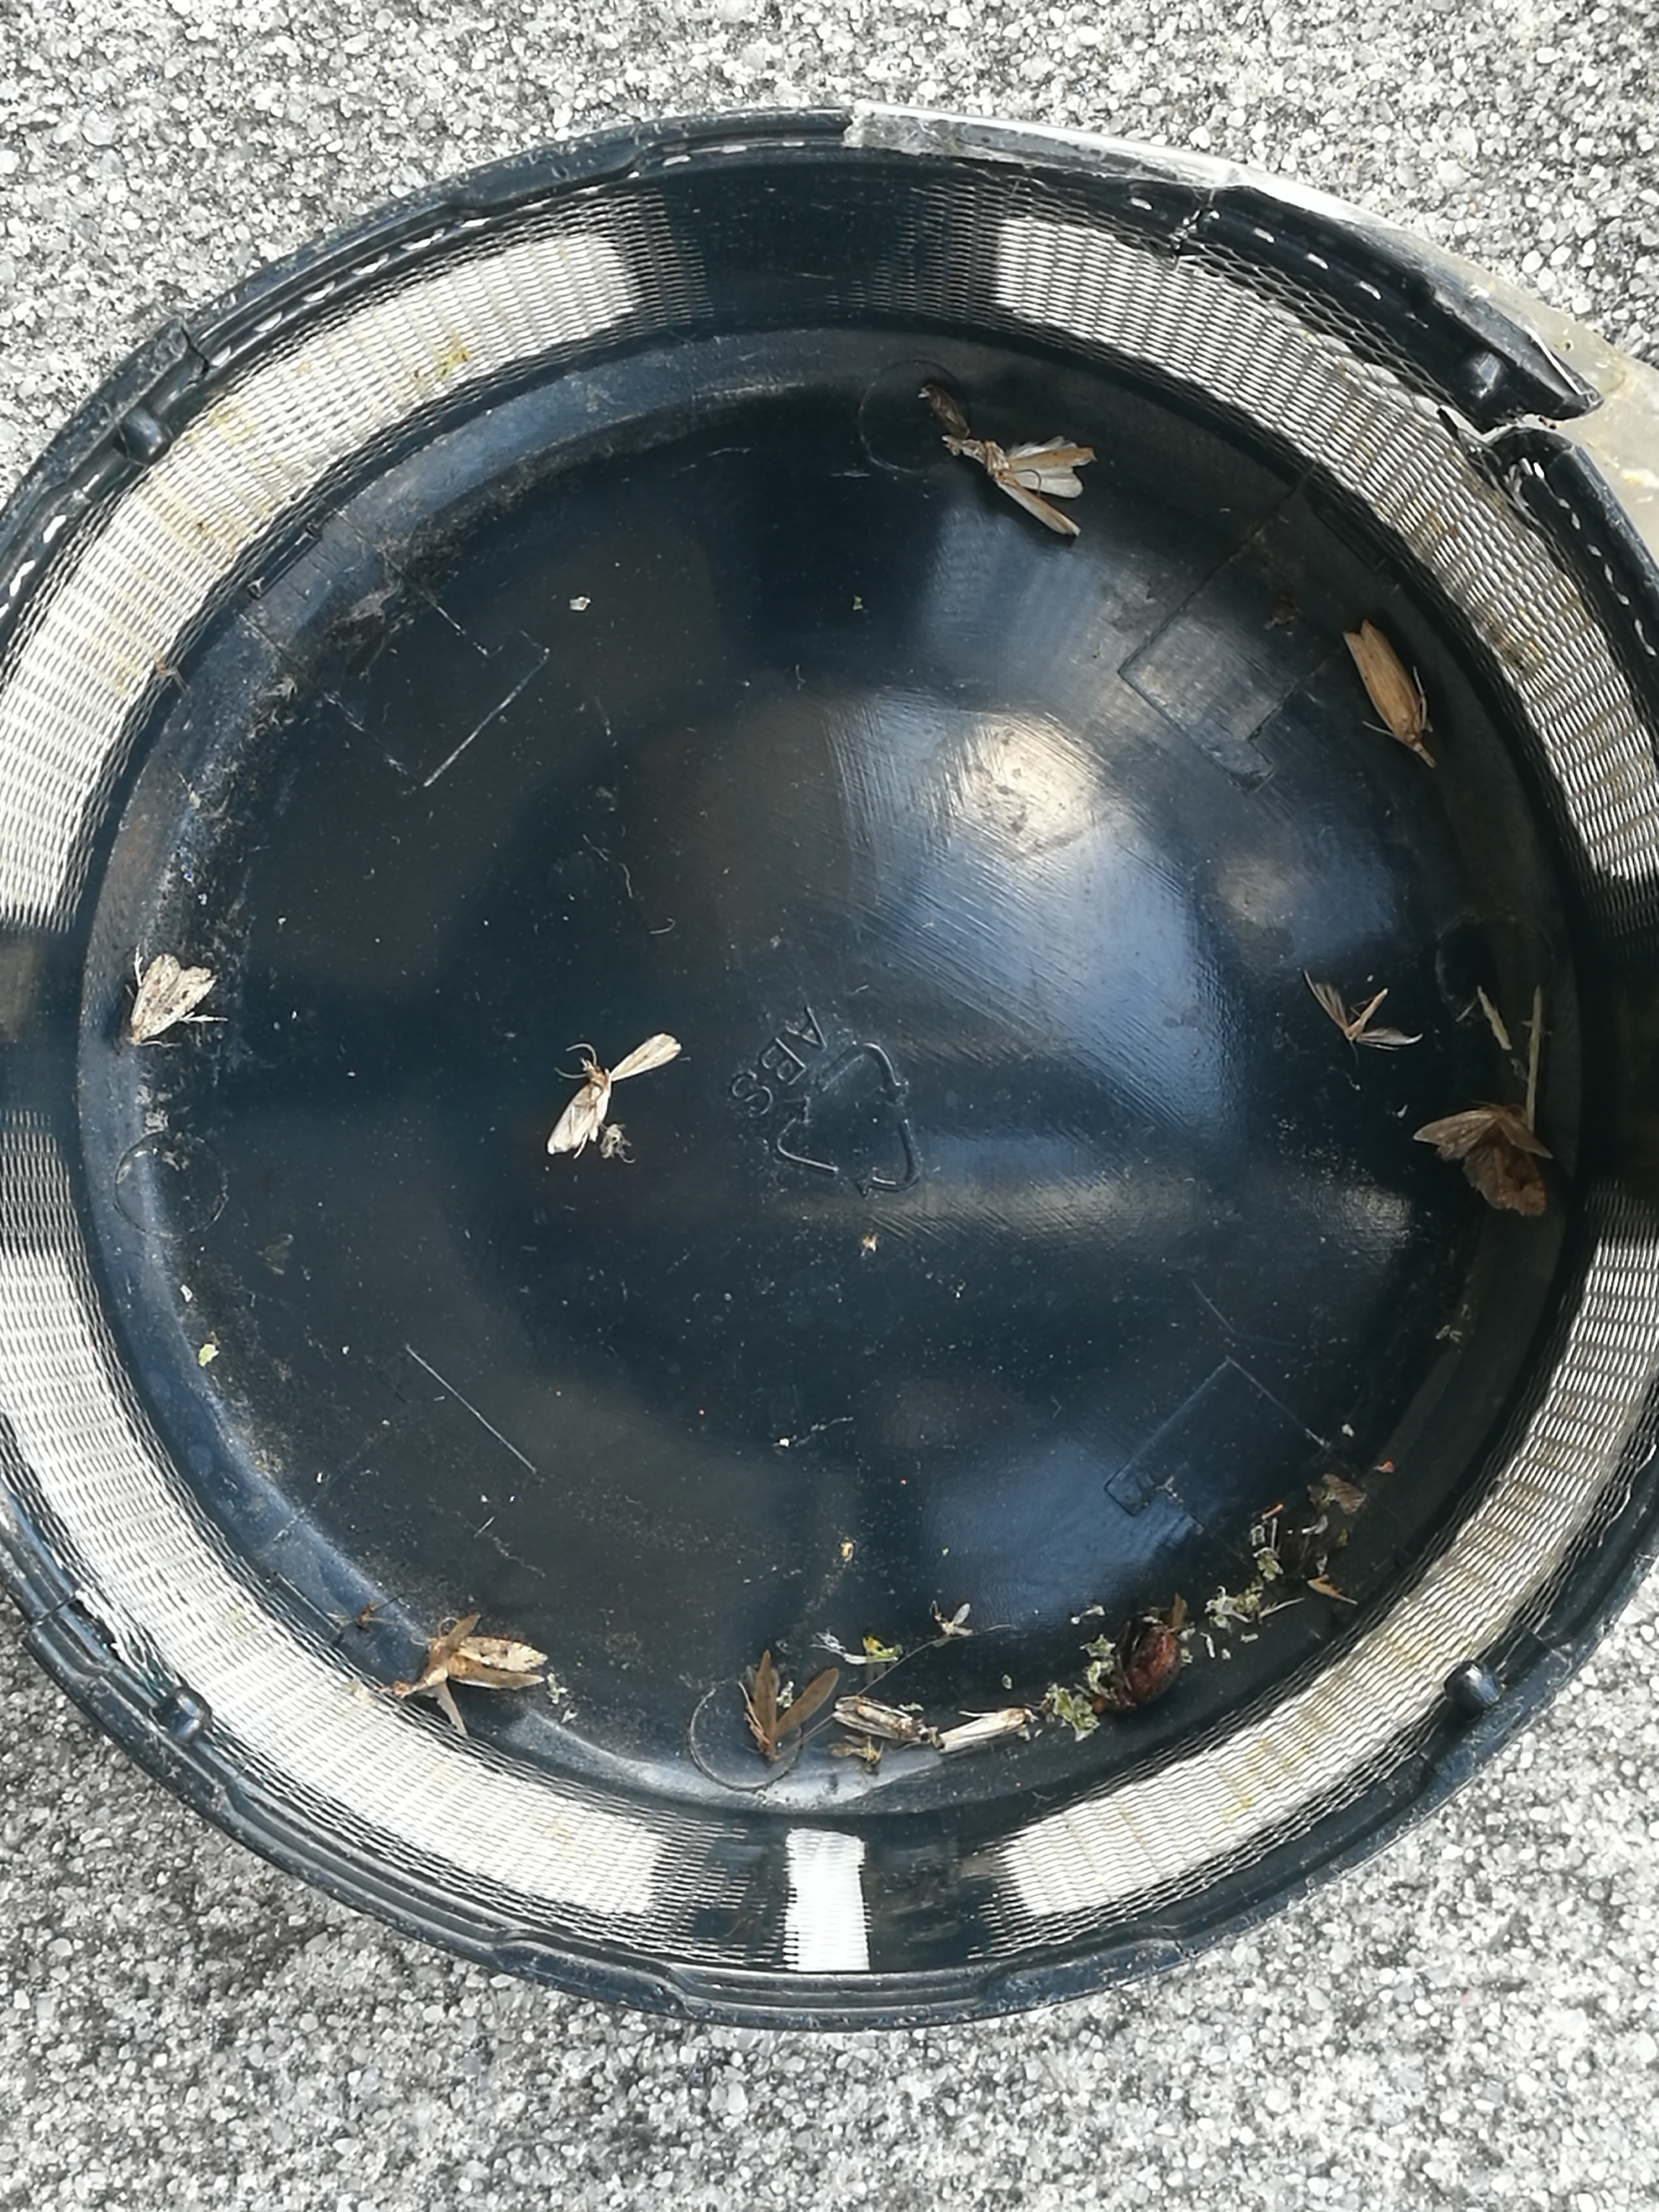beetle: (1098, 1625, 1180, 1712)
mosquito: (1342, 620, 1434, 770), (835, 1693, 934, 1743), (938, 1709, 1023, 1752), (924, 383, 971, 437)
moth: (545, 1033, 678, 1155), (943, 434, 1094, 538), (1415, 1103, 1553, 1216), (1303, 967, 1420, 1049), (753, 1653, 838, 1763), (131, 953, 214, 1043)
